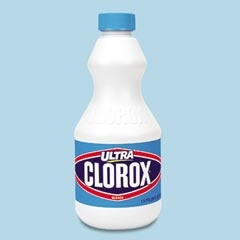grozi_13: (72, 3, 162, 240)
